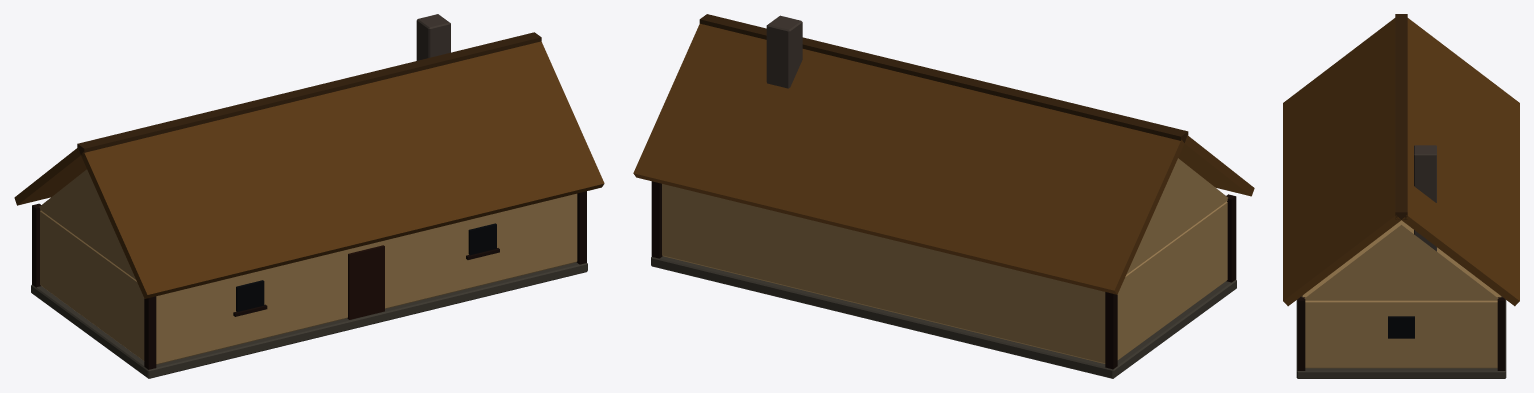
File: house_long.fbx
The picture shows the model from 3 angles, left to right: view 1: azimuth 30°, elevation 25°; view 2: azimuth 150°, elevation 25°; view 3: azimuth 270°, elevation 25°; orthographic projection. The views are drawn at different scales.
Visible parts, largest first — view 1: house_long; view 2: house_long; view 3: house_long.
Part boxes in pixels (left/top/right/bottom): house_long: left=14, top=14, right=604, bottom=378; house_long: left=633, top=14, right=1254, bottom=378; house_long: left=1283, top=14, right=1519, bottom=378.
Size of the model in its own units: 12.2 by 5.58 by 6.16.
